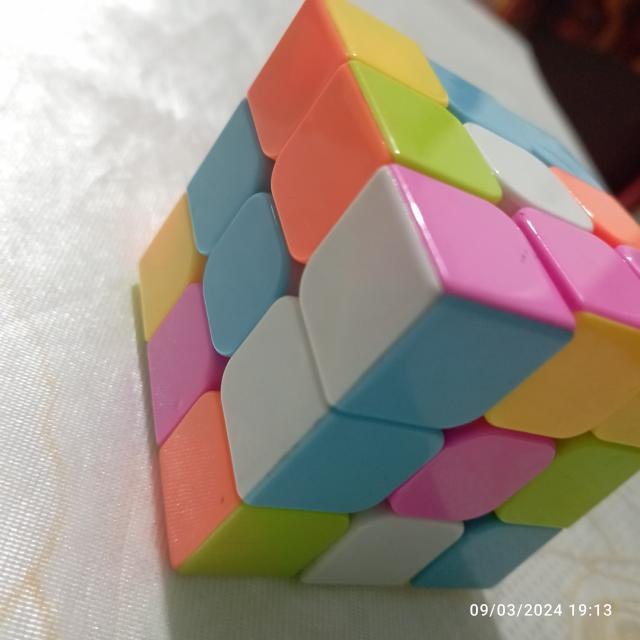Rub: (129, 0, 640, 595)
